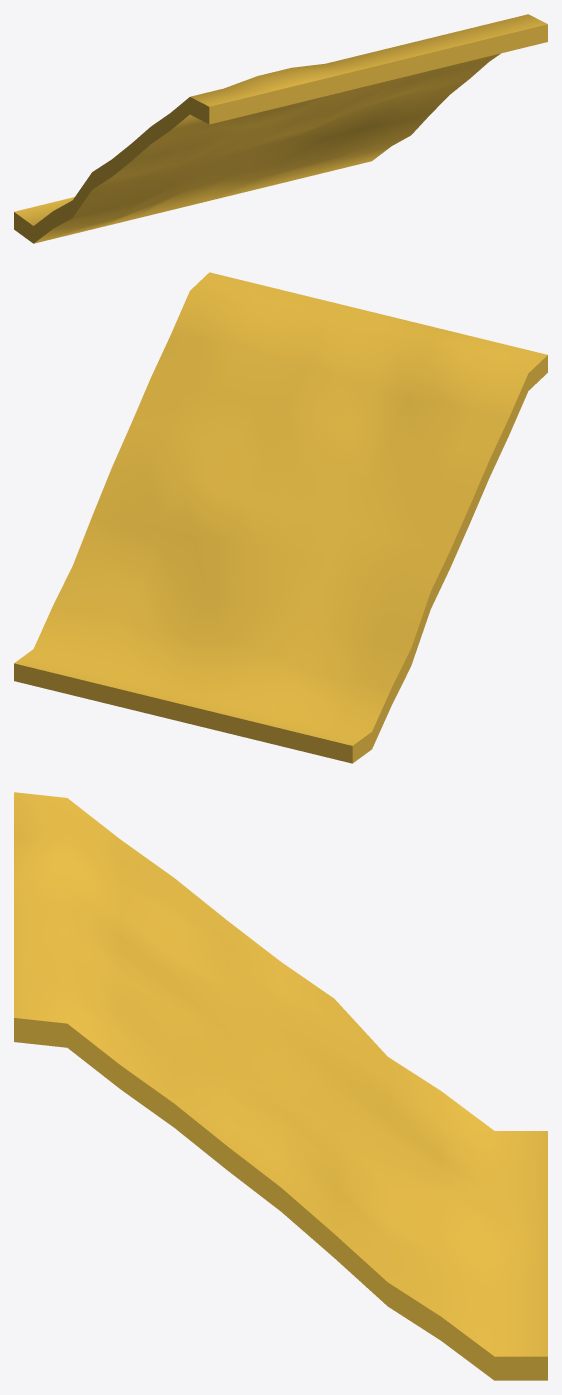
The model's file is Steil - Mitte - Hügel a - a.fbx.
3 renders of one model, top to bottom at view 1: azimuth 30°, elevation 25°; view 2: azimuth 150°, elevation 25°; view 3: azimuth 270°, elevation 25°, orthographic. The views are drawn at different scales.
Parts seen in each view (by area): view 1: Steil - Mitte - Hügel a - a; view 2: Steil - Mitte - Hügel a - a; view 3: Steil - Mitte - Hügel a - a.
Part boxes in pixels (<box>): Steil - Mitte - Hügel a - a: <box>14,14,547,243</box>; Steil - Mitte - Hügel a - a: <box>14,272,547,763</box>; Steil - Mitte - Hügel a - a: <box>14,792,547,1380</box>.
Size of the model in its own units: 394 by 295 by 394.
